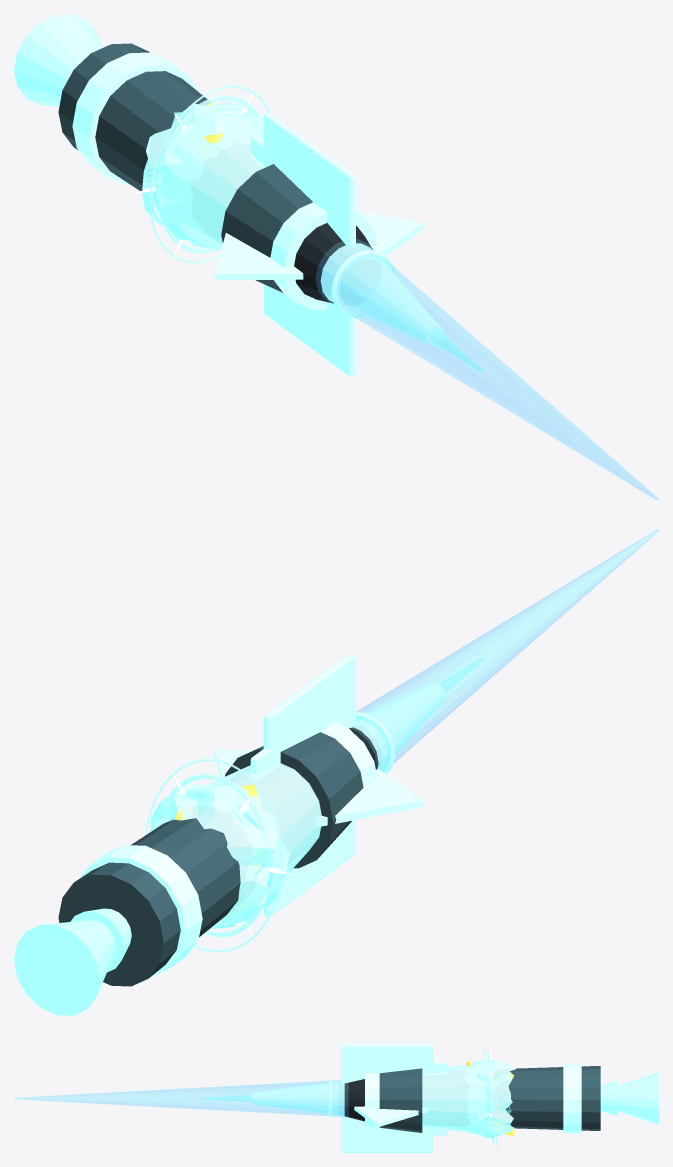
File: combat_effects_library.glb
3 renders of one model, top to bottom at view 1: azimuth 30°, elevation 25°; view 2: azimuth 150°, elevation 25°; view 3: azimuth 270°, elevation 25°, orthographic. The views are drawn at different scales.
Parts seen in each view (by area): view 1: NuclearTorpedo, NuclearExhaust, NuclearCore, WarpRing, GuidedMissile; view 2: NuclearTorpedo, NuclearExhaust, NuclearCore, WarpRing, GuidedMissile; view 3: NuclearTorpedo, NuclearExhaust, NuclearCore, GuidedMissile, WarpRing, MissileExhaust.
Part boxes in pixels (<box>): NuclearTorpedo: <box>14,14,423,376</box>; NuclearExhaust: <box>154,111,658,500</box>; NuclearCore: <box>142,102,263,249</box>; WarpRing: <box>149,85,271,263</box>; GuidedMissile: <box>250,136,314,316</box>; NuclearTorpedo: <box>14,653,423,1015</box>; NuclearExhaust: <box>186,529,658,903</box>; NuclearCore: <box>150,783,289,928</box>; WarpRing: <box>145,758,282,952</box>; GuidedMissile: <box>70,714,321,972</box>; NuclearTorpedo: <box>341,1044,658,1152</box>; NuclearExhaust: <box>14,1064,490,1132</box>; NuclearCore: <box>470,1059,515,1138</box>; GuidedMissile: <box>378,1061,617,1135</box>; WarpRing: <box>483,1047,498,1149</box>; MissileExhaust: <box>201,1095,252,1101</box>.
Bounding box in the file's own units: 3.5 × 3.21 × 17.43.
